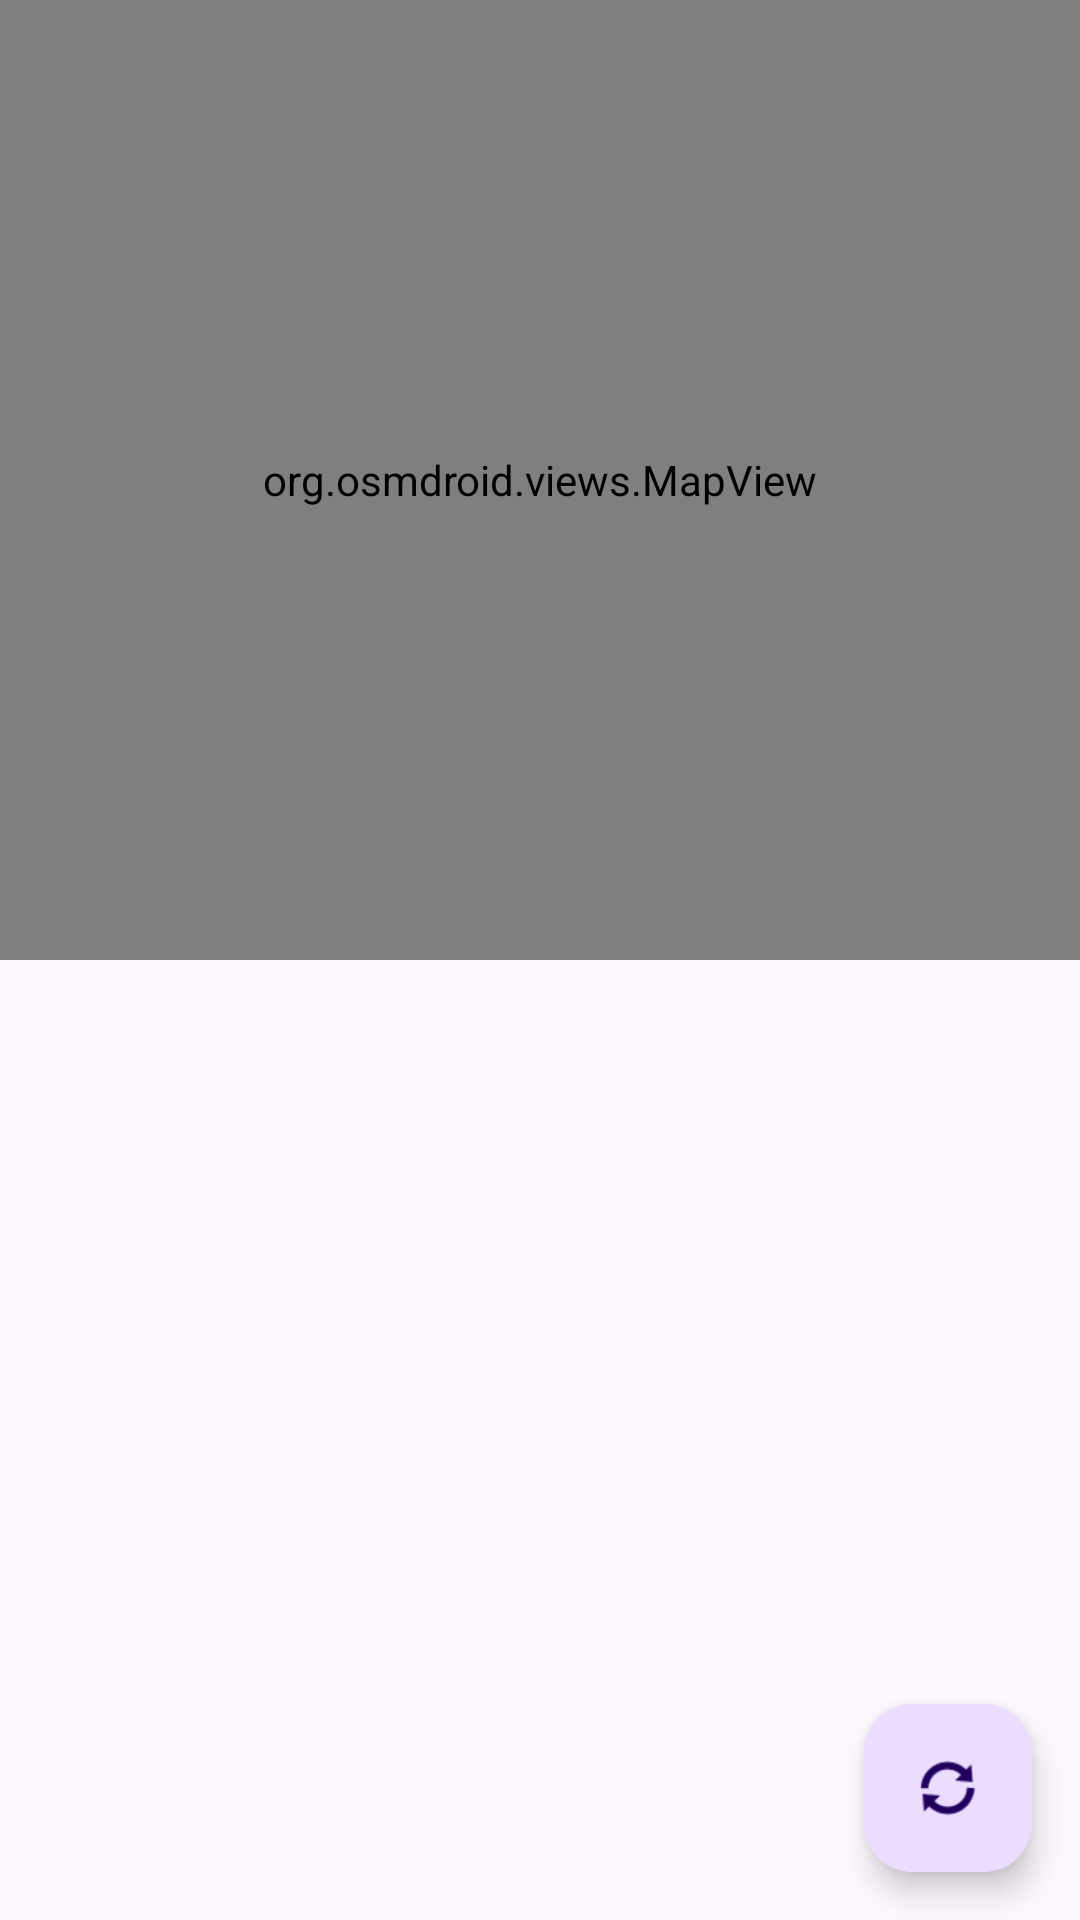

Point at icon controls on the screen. Image size 1080×1920, points as (x=x, y=y).
popup sync: (x=948, y=1788)
